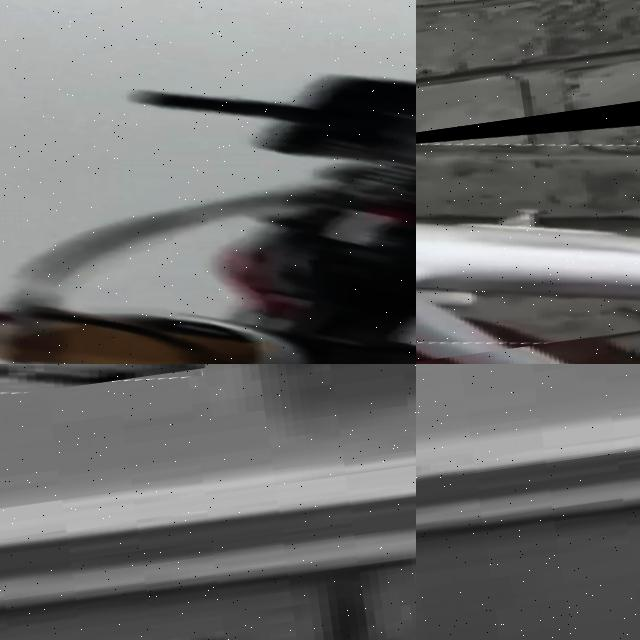0: (0, 364, 206, 411)
drone: (0, 0, 416, 364), (416, 69, 640, 364)
